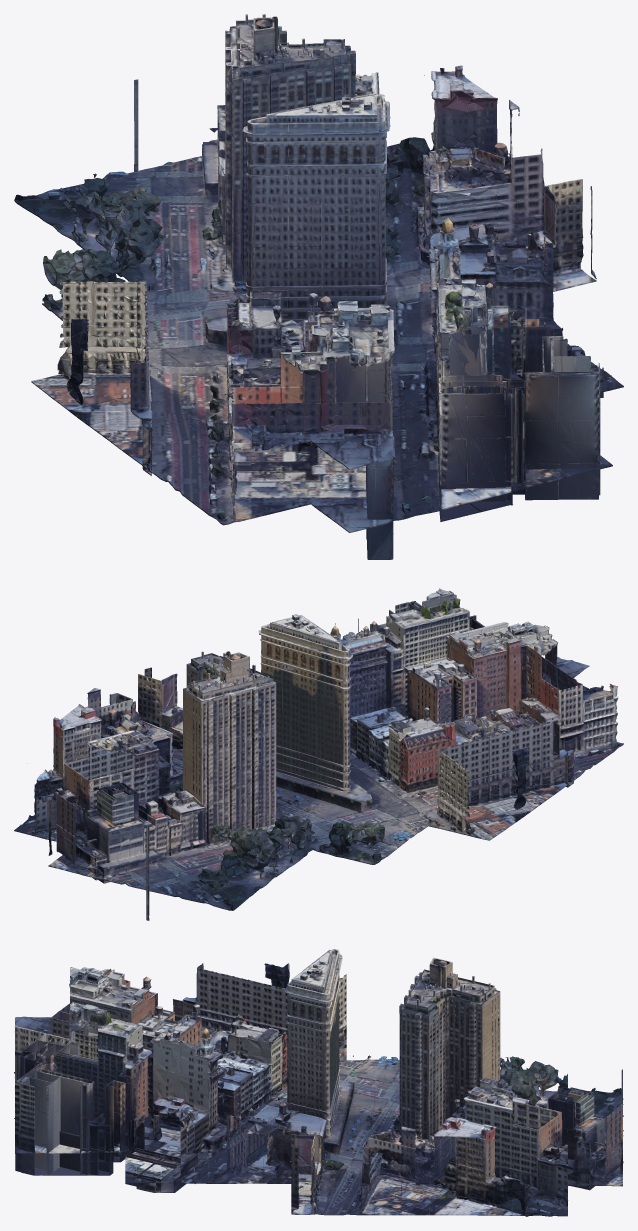
Rendered from flatiron.glb.
The picture shows the model from 3 angles, top to bottom: view 1: azimuth 30°, elevation 25°; view 2: azimuth 150°, elevation 25°; view 3: azimuth 270°, elevation 25°; orthographic projection. The views are drawn at different scales.
Visible parts, largest first — view 1: BuildingMesh-00000.001; view 2: BuildingMesh-00000.001; view 3: BuildingMesh-00000.001.
Boxes of the visible parts, x1,y1,x2,y2 form: BuildingMesh-00000.001: (14, 14, 623, 559); BuildingMesh-00000.001: (14, 588, 623, 920); BuildingMesh-00000.001: (14, 949, 623, 1216).
Bounding box in the file's own units: 5.84 × 3.04 × 8.1.
1 material, 1 textured.
